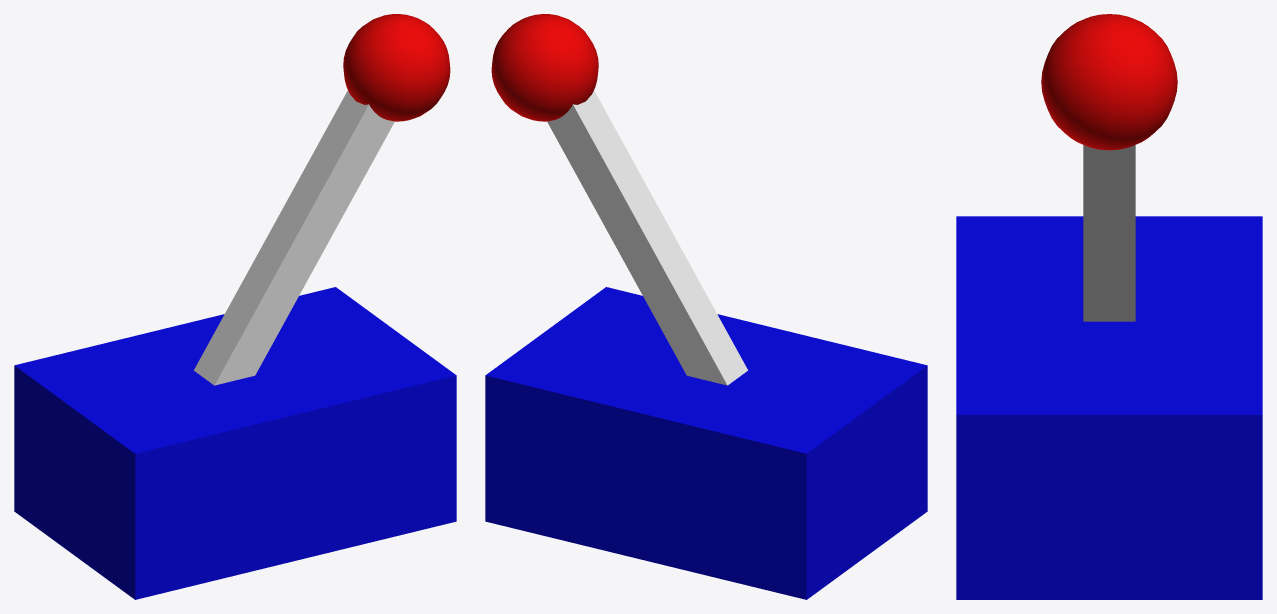
Rendered from Lever.fbx.
3 renders of one model, left to right at view 1: azimuth 30°, elevation 25°; view 2: azimuth 150°, elevation 25°; view 3: azimuth 270°, elevation 25°, orthographic. The views are drawn at different scales.
Visible parts, largest first — view 1: pCube3; view 2: pCube3; view 3: pCube3.
Part boxes in pixels (x1,y1,x2,y2): pCube3: [14, 14, 456, 599]; pCube3: [485, 14, 927, 599]; pCube3: [956, 14, 1262, 599].
Size of the model in its own units: 2.64 by 3.14 by 1.5.
